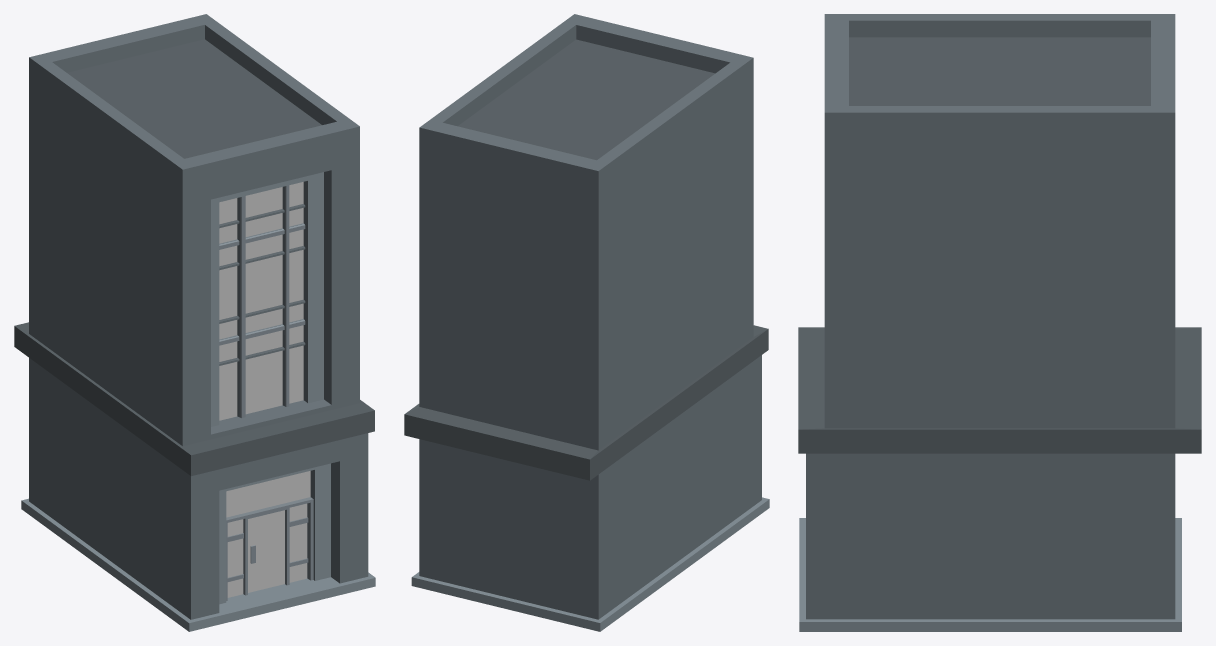
Rendered from SM_Gen_Bld_Background_02.fbx.
3 renders of one model, left to right at view 1: azimuth 30°, elevation 25°; view 2: azimuth 150°, elevation 25°; view 3: azimuth 270°, elevation 25°, orthographic. The views are drawn at different scales.
Parts seen in each view (by area): view 1: SM_Gen_Bld_Background_02; view 2: SM_Gen_Bld_Background_02; view 3: SM_Gen_Bld_Background_02.
Boxes of the visible parts, x1,y1,x2,y2 form: SM_Gen_Bld_Background_02: (14, 14, 375, 631); SM_Gen_Bld_Background_02: (404, 14, 769, 631); SM_Gen_Bld_Background_02: (798, 14, 1201, 631).
Bounding box in the file's own units: 526 × 1220 × 864.
